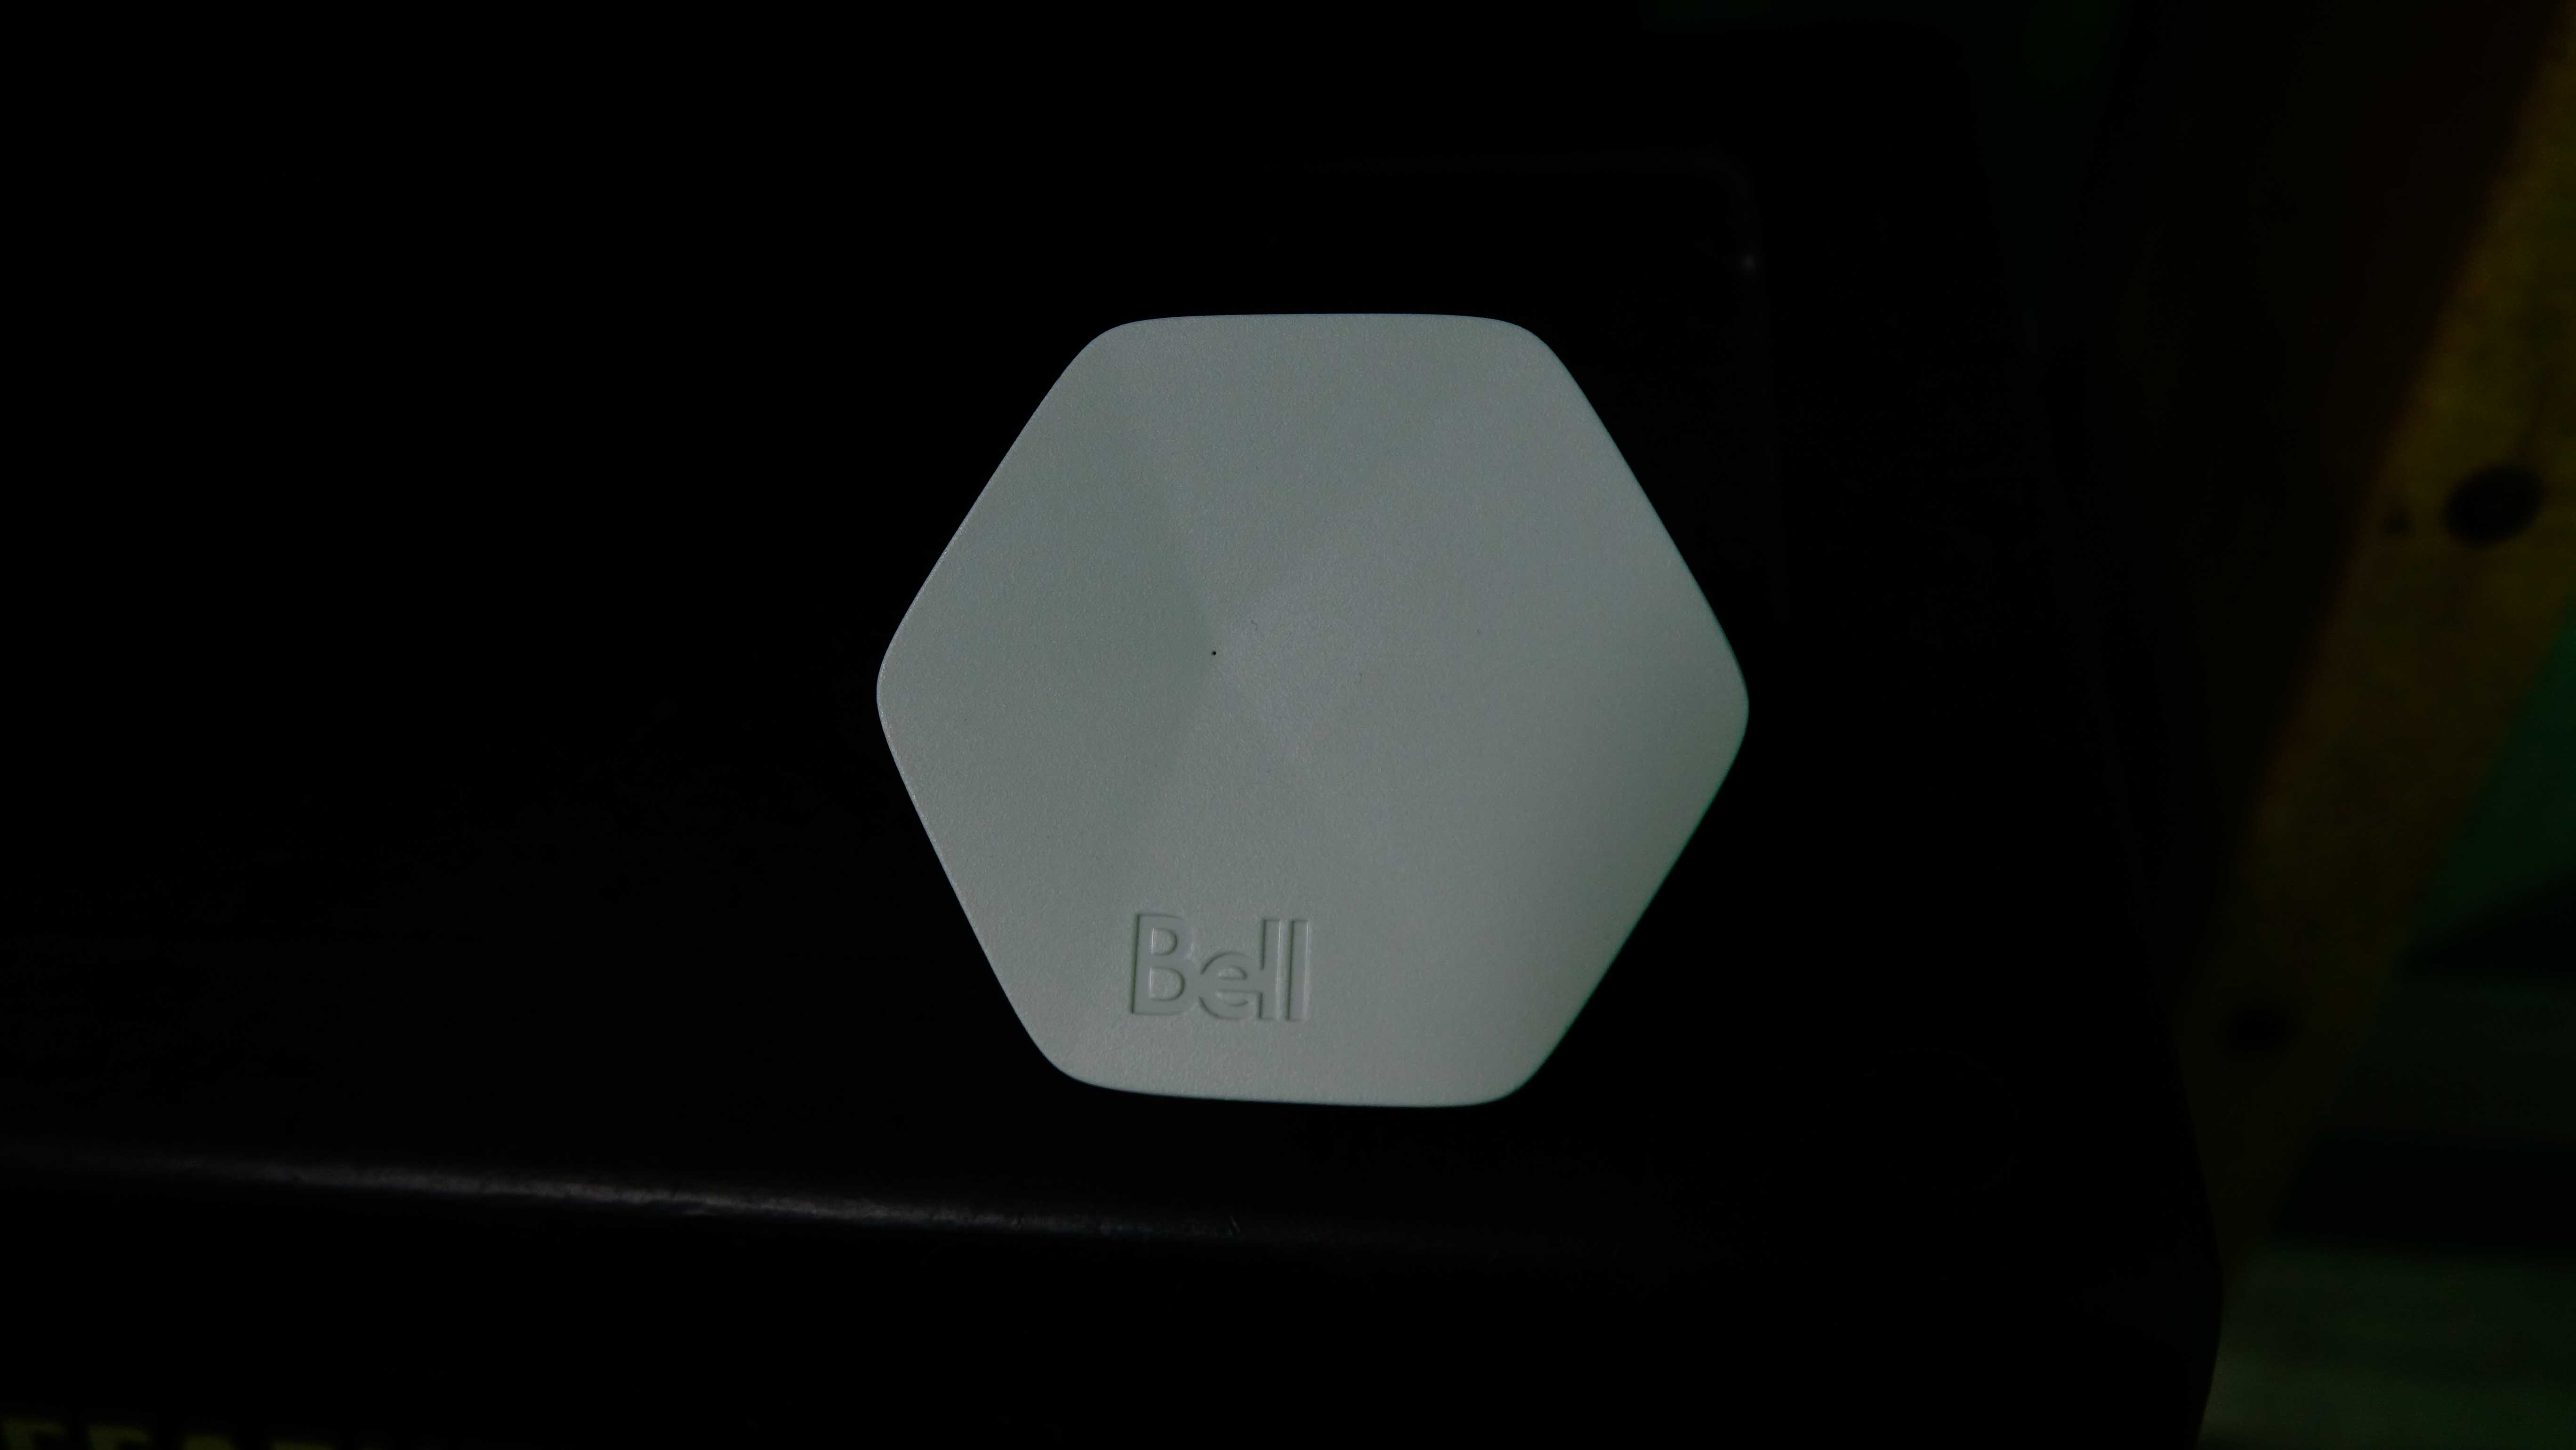pod: (860, 297, 1760, 1128)
